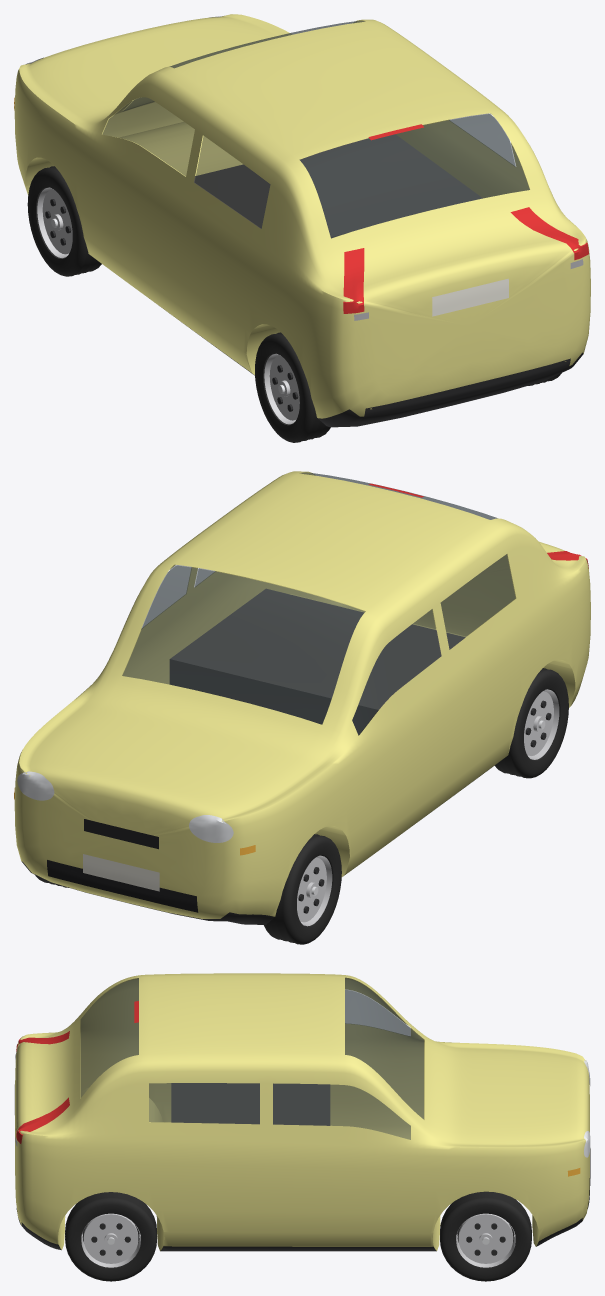
The model's file is traffic_city.glb.
3 views of the same model, one above another, from view 1: azimuth 30°, elevation 25°; view 2: azimuth 150°, elevation 25°; view 3: azimuth 270°, elevation 25° (orthographic). The views are drawn at different scales.
Visible parts, largest first — view 1: Body, Glass, Interior, Wheel_RL, Wheel_FL, Lights_Tail; view 2: Body, Glass, Interior, Wheel_FL, Wheel_RL, Lights_Head; view 3: Body, Glass, Wheel_FR, Wheel_RR, Interior, Lights_Tail.
Part boxes in pixels (x1,y1,x2,y2): Body: [14, 14, 590, 427]; Glass: [102, 20, 529, 238]; Interior: [194, 134, 482, 238]; Wheel_RL: [255, 332, 330, 442]; Wheel_FL: [27, 166, 101, 276]; Lights_Tail: [343, 207, 588, 313]; Body: [14, 471, 590, 924]; Glass: [122, 472, 515, 734]; Interior: [169, 588, 465, 735]; Wheel_FL: [264, 834, 341, 944]; Wheel_RL: [495, 668, 568, 778]; Lights_Head: [17, 771, 233, 842]; Body: [14, 973, 590, 1251]; Glass: [80, 978, 423, 1139]; Wheel_FR: [440, 1191, 531, 1281]; Wheel_RR: [65, 1192, 156, 1281]; Interior: [171, 1083, 330, 1125]; Lights_Tail: [16, 1031, 69, 1143].
Bounding box in the file's own units: 1.63 × 1.53 × 3.63.
